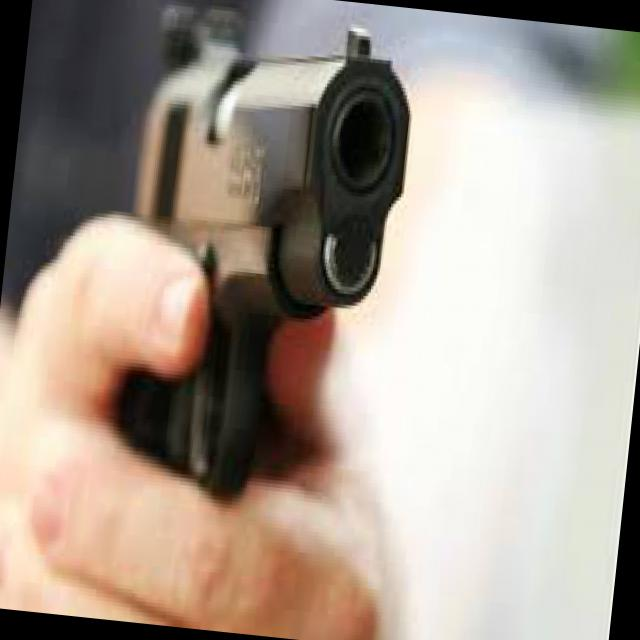handgun: (94, 0, 422, 526)
